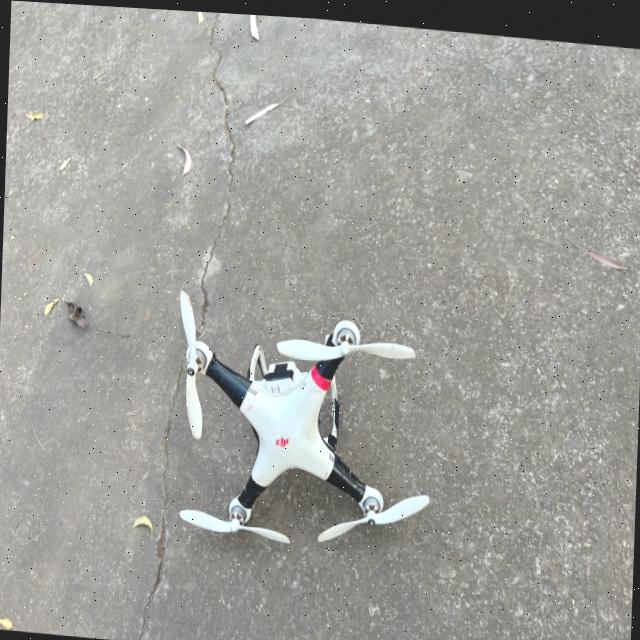drone: (92, 220, 518, 640)
